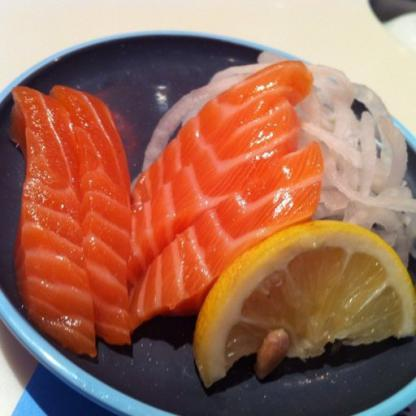salmon: (128, 69, 316, 319), (7, 81, 142, 355)
